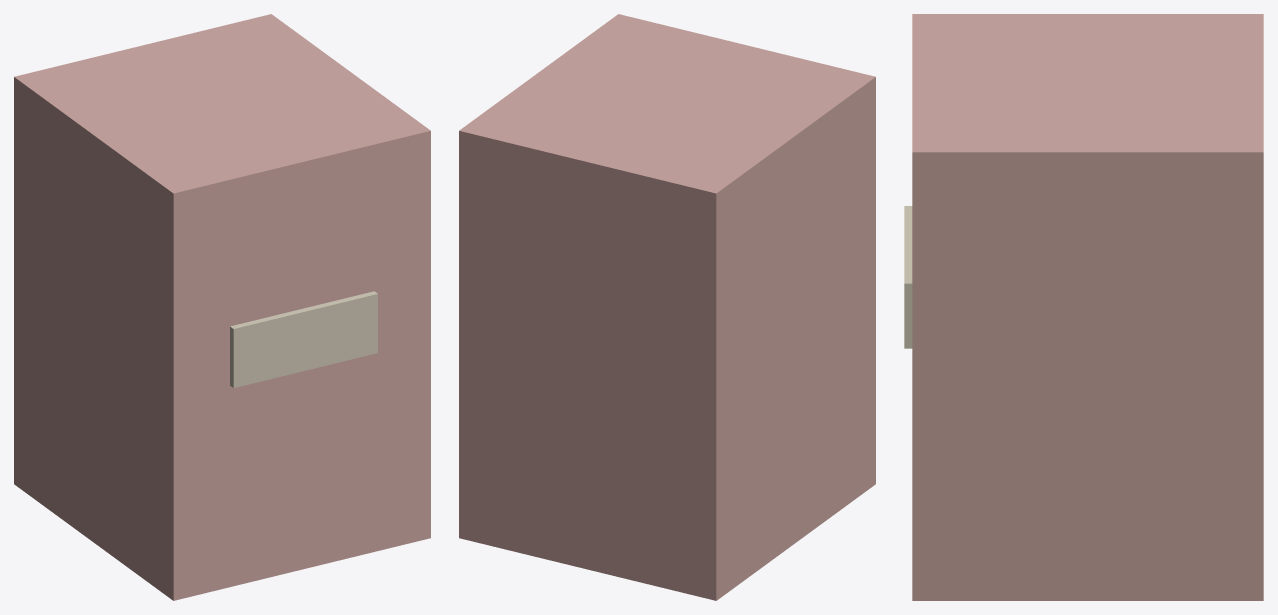
The model's file is Ingenious Snaget-Krunk.glb.
3 renders of one model, left to right at view 1: azimuth 30°, elevation 25°; view 2: azimuth 150°, elevation 25°; view 3: azimuth 270°, elevation 25°, orthographic. The views are drawn at different scales.
Visible parts, largest first — view 1: Mesh_Mesh_head_geo.001_lambert2SG.001; view 2: Mesh_Mesh_head_geo.001_lambert2SG.001; view 3: Mesh_Mesh_head_geo.001_lambert2SG.001.
Part boxes in pixels (x1,y1,x2,y2): Mesh_Mesh_head_geo.001_lambert2SG.001: (14, 14, 430, 600); Mesh_Mesh_head_geo.001_lambert2SG.001: (459, 14, 875, 600); Mesh_Mesh_head_geo.001_lambert2SG.001: (904, 14, 1263, 600).
Size of the model in its own units: 41 by 62 by 45.
